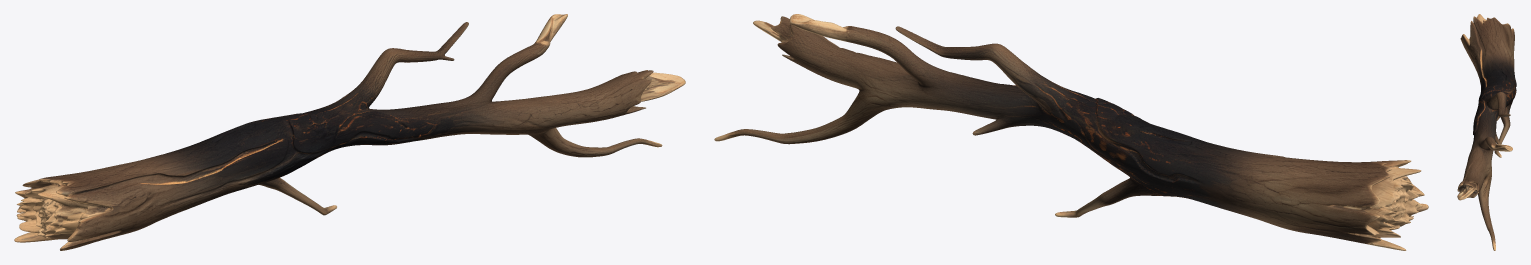
Rendered from Meshy_AI_Charred_Branch_0729113434_texture.fbx.
3 renders of one model, left to right at view 1: azimuth 30°, elevation 25°; view 2: azimuth 150°, elevation 25°; view 3: azimuth 270°, elevation 25°, orthographic. The views are drawn at different scales.
Parts seen in each view (by area): view 1: mesh_node; view 2: mesh_node; view 3: mesh_node.
Boxes of the visible parts, x1=… form: mesh_node: x1=14, y1=14, x2=685, y2=250; mesh_node: x1=714, y1=14, x2=1428, y2=250; mesh_node: x1=1457, y1=14, x2=1516, y2=250.
Bounding box in the file's own units: 190 × 44.75 × 27.53.
Materials: 1 (1 with a texture image).
